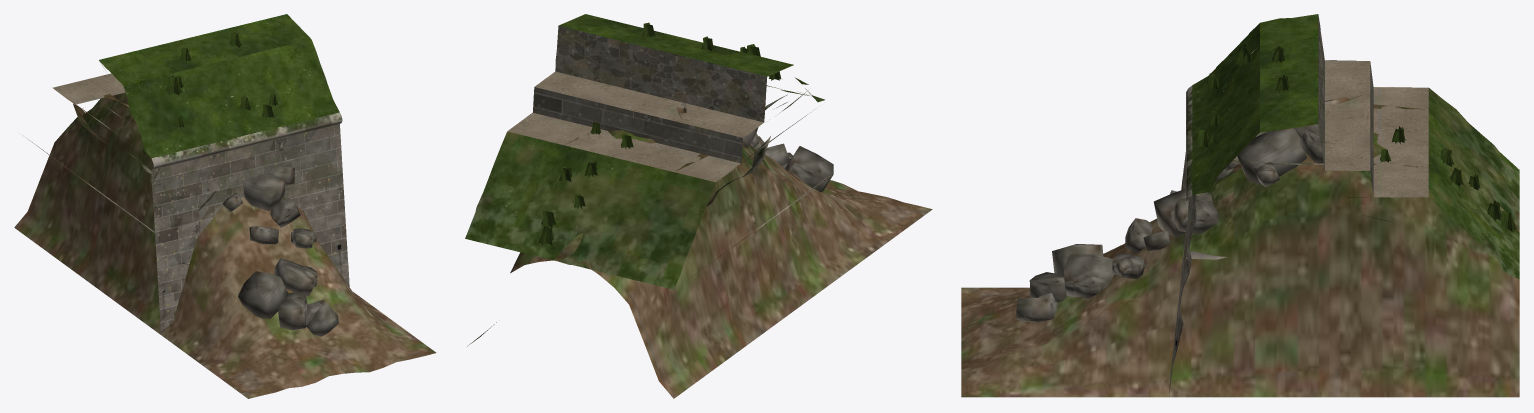
Rendered from starfort_ravelin_wall_hero.glb.
3 renders of one model, left to right at view 1: azimuth 30°, elevation 25°; view 2: azimuth 150°, elevation 25°; view 3: azimuth 270°, elevation 25°, orthographic. The views are drawn at different scales.
Visible parts, largest first — view 1: breached, intact, cracked; view 2: breached, cracked, intact; view 3: breached, cracked, intact.
Part boxes in pixels (bbox=[...]): breached: bbox=[14, 19, 436, 398]; intact: bbox=[52, 22, 347, 321]; cracked: bbox=[53, 14, 340, 334]; breached: bbox=[465, 26, 932, 398]; cracked: bbox=[477, 14, 809, 288]; intact: bbox=[465, 14, 792, 289]; breached: bbox=[961, 15, 1519, 397]; cracked: bbox=[1170, 14, 1519, 384]; intact: bbox=[1169, 14, 1519, 393].
Size of what is drawn, in the model's own units: 4.11 by 4.96 by 8.6.
Materials: 2 (2 with a texture image).
